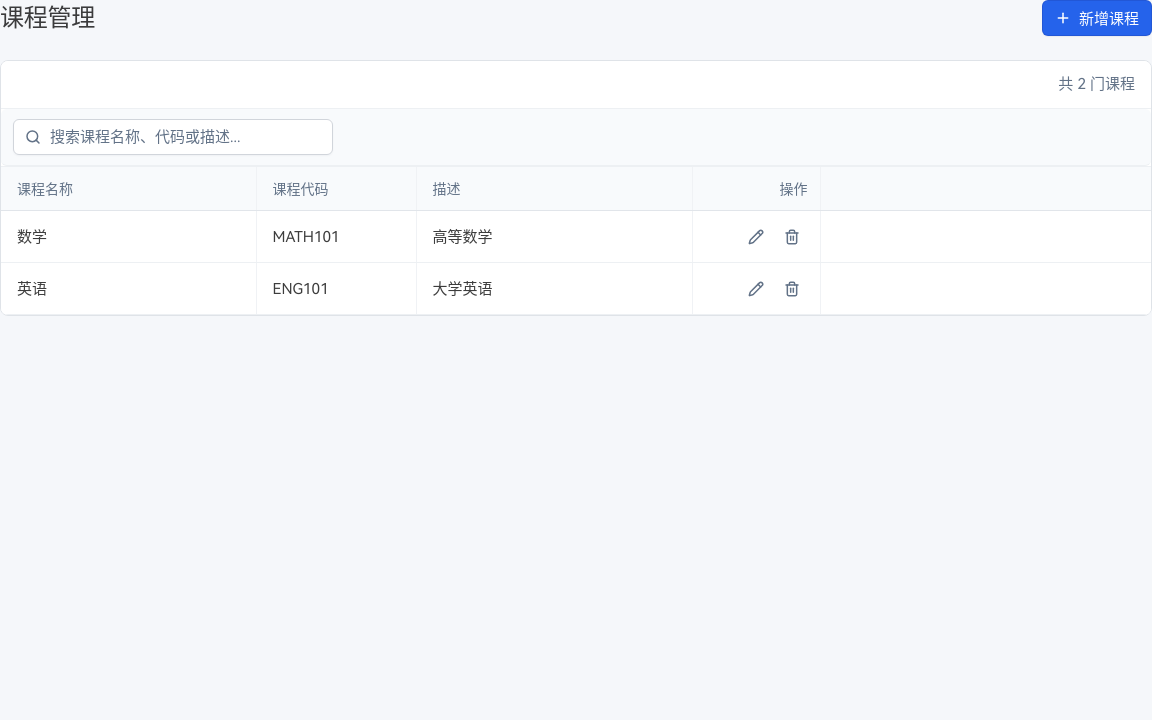
CoursePage › clears field error on input change
Click the button "新增课程" at (1097, 18), box [1042,0,1151,36]
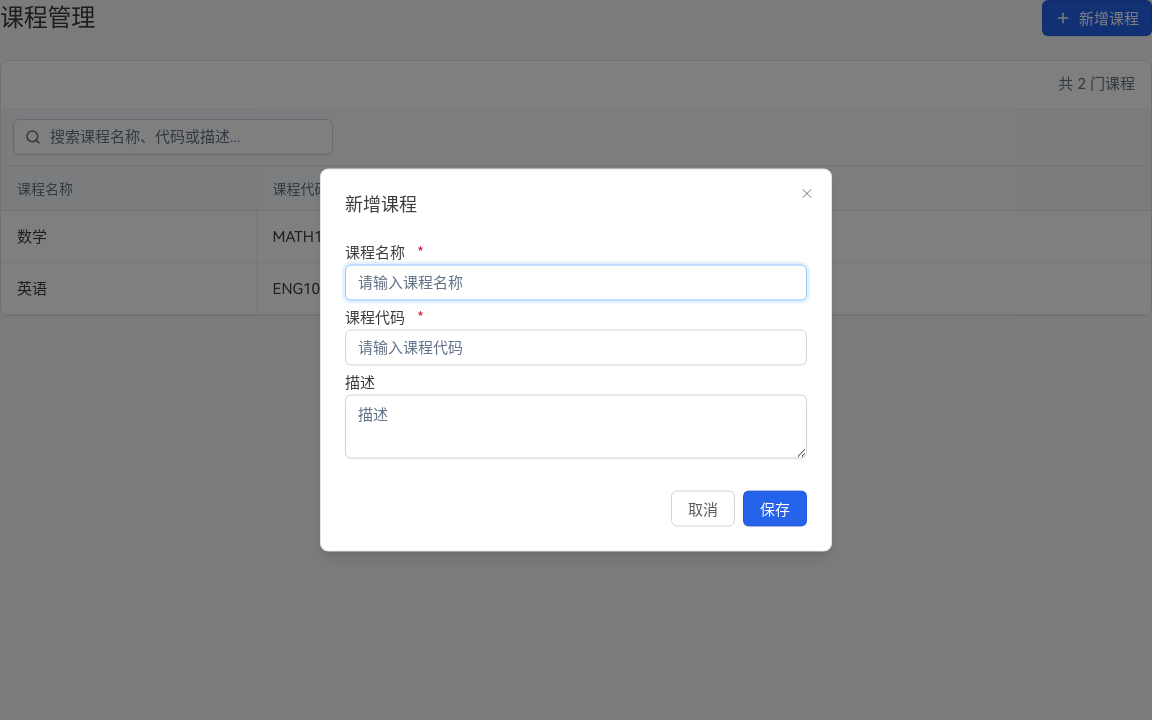
Click the button "保存" at (775, 508), box [743,490,807,526]
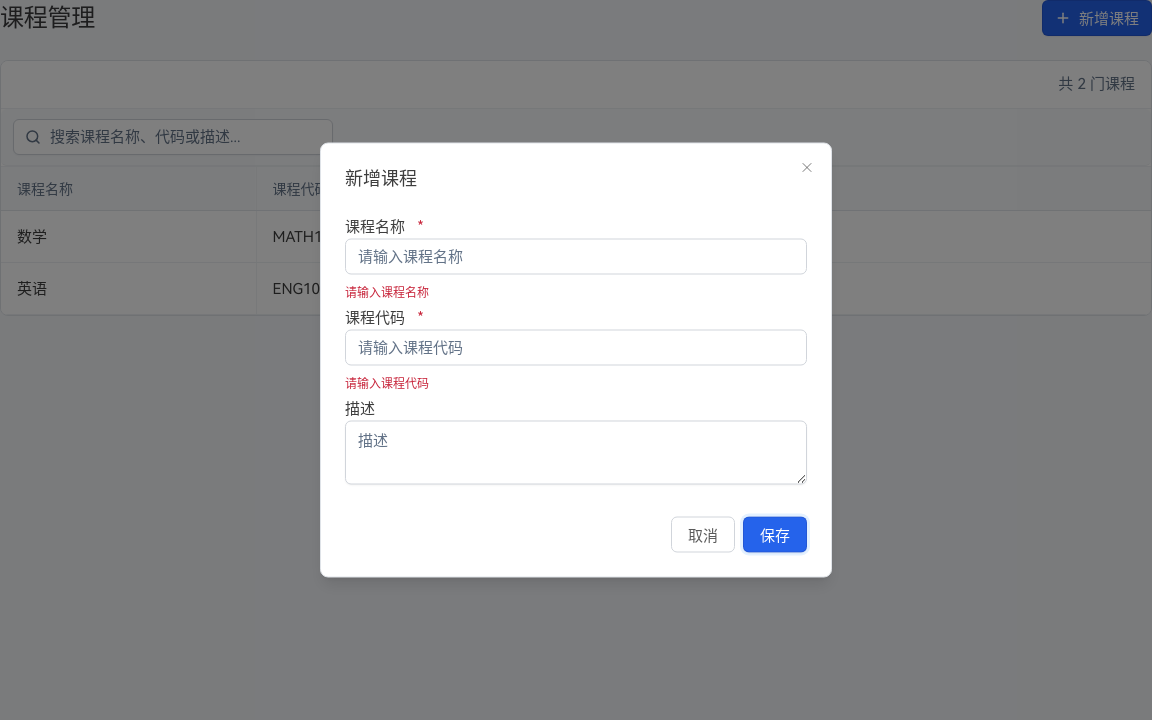
expect the text "请输入课程名称" is shown: met, box [345,286,429,300]
Type "物理" into the field labelled "课程名称 *" at (576, 256), box [345,238,807,274]
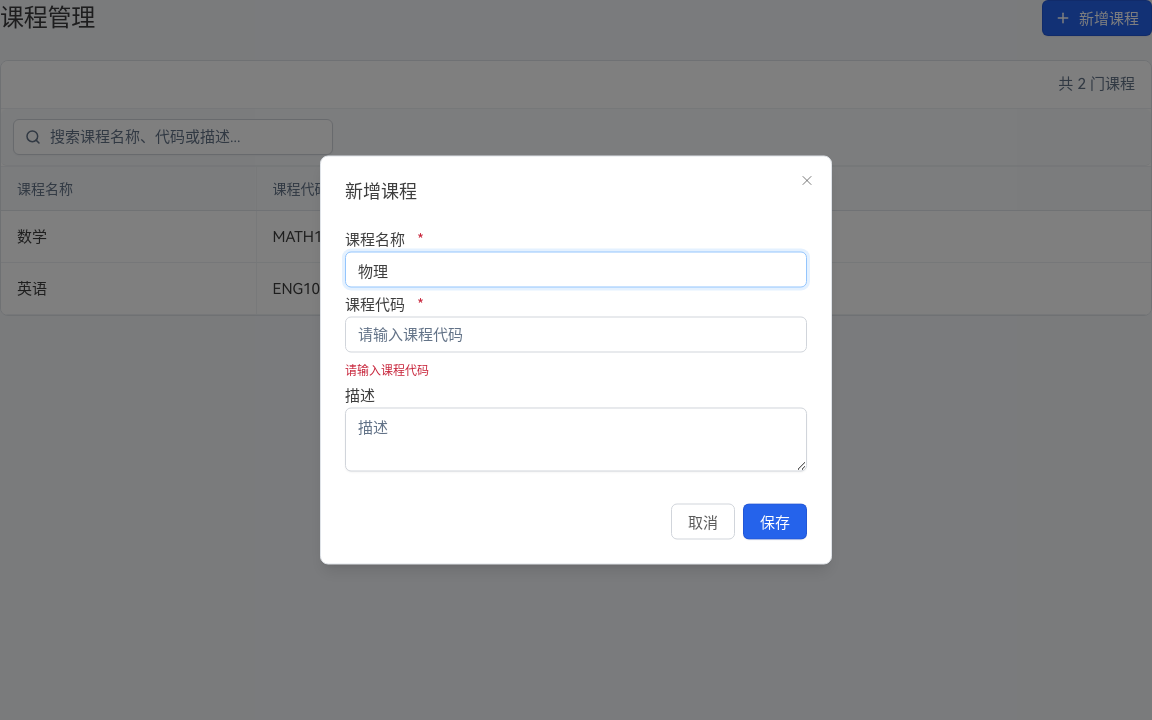
expect the text "请输入课程名称" is gone: met
